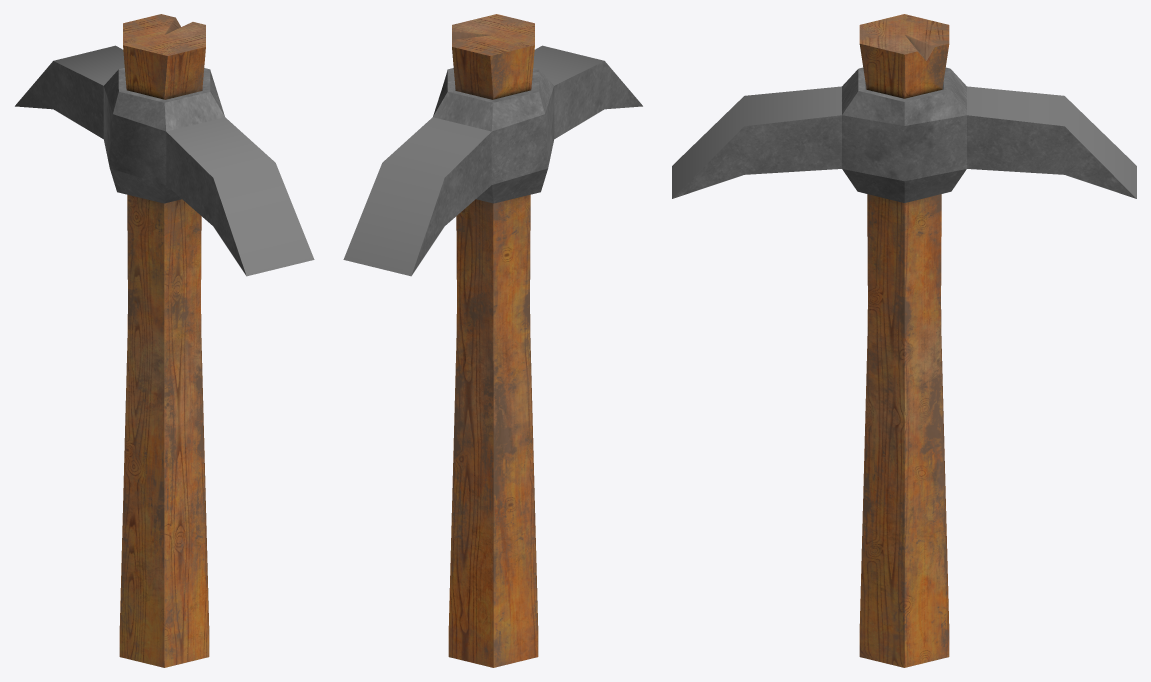
The model's file is low_poly_pick_axe.glb.
3 renders of one model, left to right at view 1: azimuth 30°, elevation 25°; view 2: azimuth 150°, elevation 25°; view 3: azimuth 270°, elevation 25°, orthographic.
Visible parts, largest first — view 1: pick_axe_handle, pickhead; view 2: pick_axe_handle, pickhead; view 3: pick_axe_handle, pickhead.
Boxes of the visible parts, box(x1,y1,x2,y2) form: pick_axe_handle: box(119, 14, 209, 667); pickhead: box(15, 45, 314, 276); pick_axe_handle: box(448, 14, 538, 667); pickhead: box(343, 45, 642, 276); pick_axe_handle: box(859, 14, 949, 667); pickhead: box(672, 67, 1136, 202).
Size of the model in its own units: 0.1903 by 1.02 by 0.6996.
1 material, 1 textured.
